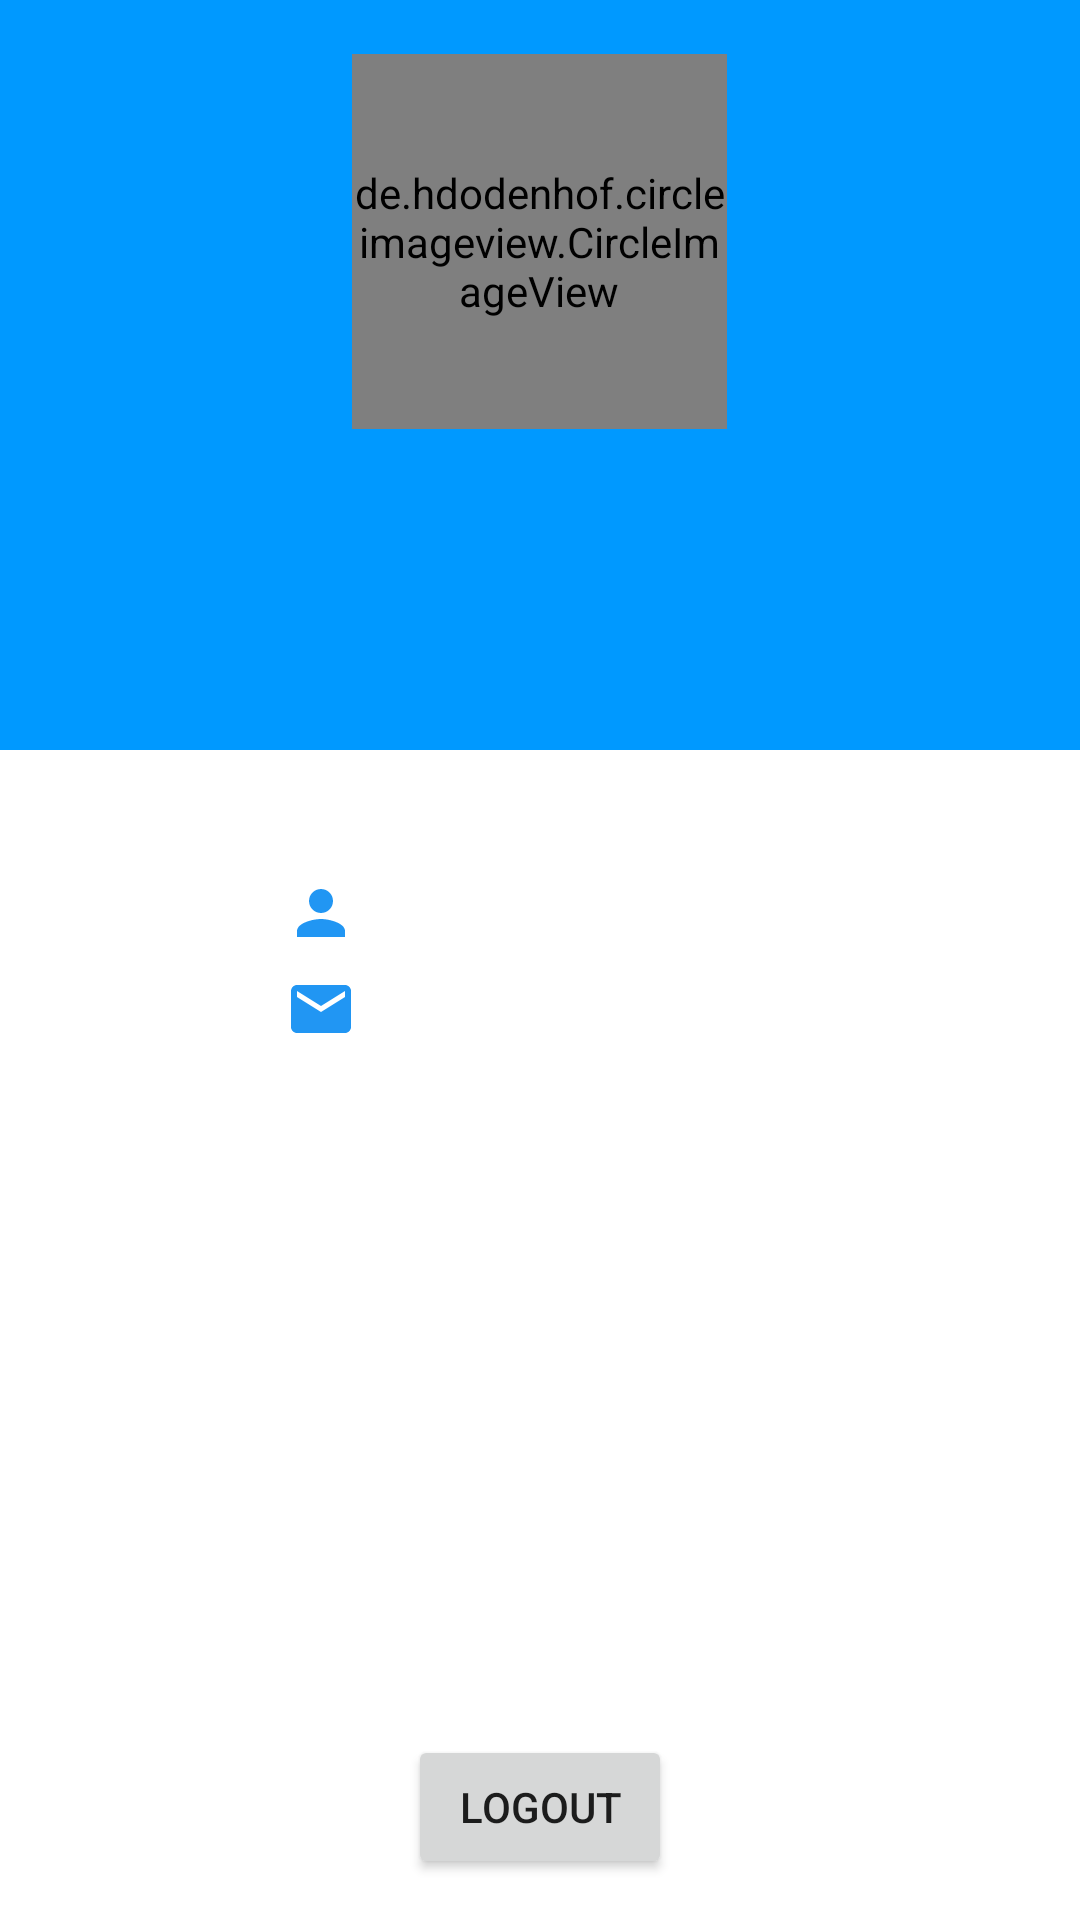

Where to tap for icons on this 1080px×1920px app screen, as (x,y):
email: (321,1009)
profile: (321,913)
